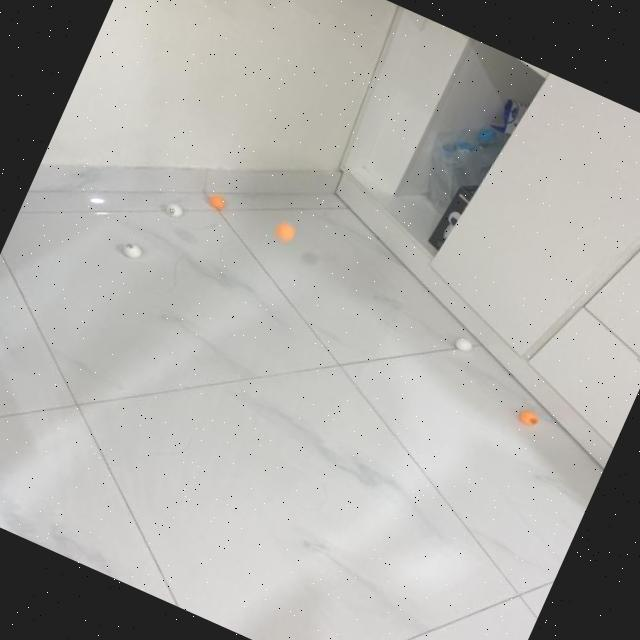ping-pong-ball: (270, 218, 300, 245), (158, 195, 188, 222), (515, 404, 542, 430), (120, 238, 144, 261), (450, 332, 474, 354), (207, 192, 227, 210)
